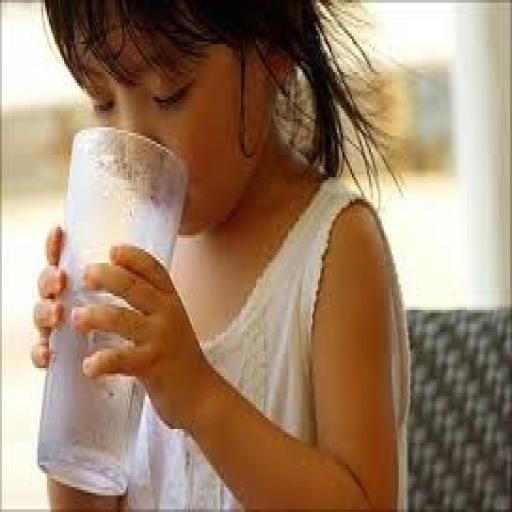drinking: (34, 124, 188, 496)
